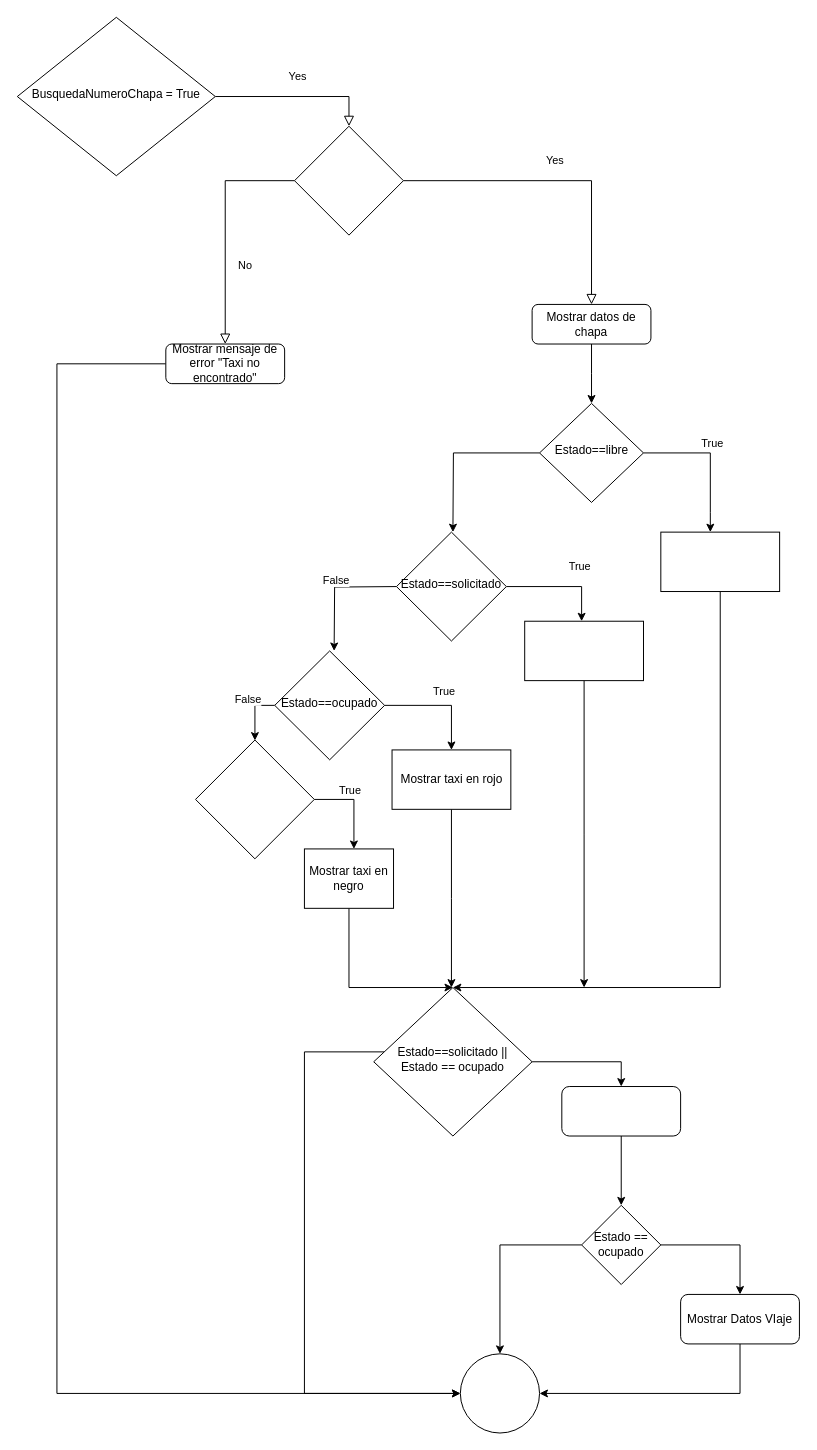
This 817x1450 diagram has some shape labels left out. Here are the shapes that lost their labels. From the top down, the centre of each, then its label:
At point (348, 180): "Se encontro numero de chapa".
At point (720, 561): "Mostrar taxi en verde".
At point (584, 650): "Mostrar taxi en amarillo".
At point (254, 799): "Estado==fuera de servicio".
At point (621, 1111): "Mostrar Datos Pasajero".
At point (499, 1393): "Fin".
